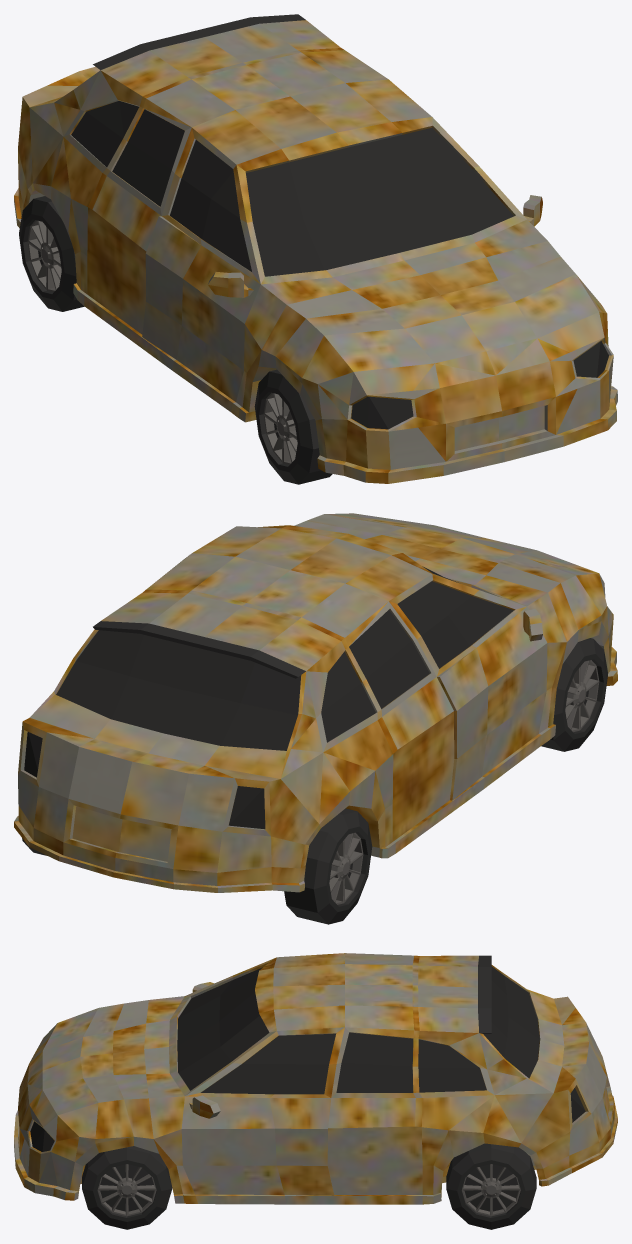
File: wreck_hatch_rust.glb
The picture shows the model from 3 angles, top to bottom: view 1: azimuth 30°, elevation 25°; view 2: azimuth 150°, elevation 25°; view 3: azimuth 270°, elevation 25°; orthographic projection. The views are drawn at different scales.
Visible parts, largest first — view 1: NormalCar2_Cube.002, NormalCar2_FrontRightWheel_Cylinder.016, NormalCar2_BackWheels_Cylinder.003; view 2: NormalCar2_Cube.002, NormalCar2_BackWheels_Cylinder.003, NormalCar2_FrontRightWheel_Cylinder.016; view 3: NormalCar2_Cube.002, NormalCar2_BackWheels_Cylinder.003, NormalCar2_FrontLeftWheel_Cylinder.015.
Boxes of the visible parts, x1,y1,x2,y2 form: NormalCar2_Cube.002: [14, 14, 617, 483]; NormalCar2_FrontRightWheel_Cylinder.016: [254, 369, 332, 484]; NormalCar2_BackWheels_Cylinder.003: [19, 196, 84, 311]; NormalCar2_Cube.002: [14, 513, 617, 892]; NormalCar2_BackWheels_Cylinder.003: [22, 808, 372, 924]; NormalCar2_FrontRightWheel_Cylinder.016: [541, 638, 607, 751]; NormalCar2_Cube.002: [14, 953, 617, 1204]; NormalCar2_BackWheels_Cylinder.003: [446, 1143, 536, 1229]; NormalCar2_FrontLeftWheel_Cylinder.015: [82, 1146, 172, 1229].
Bounding box in the file's own units: 1.64 × 1.15 × 3.31.
4 materials, 1 textured.
